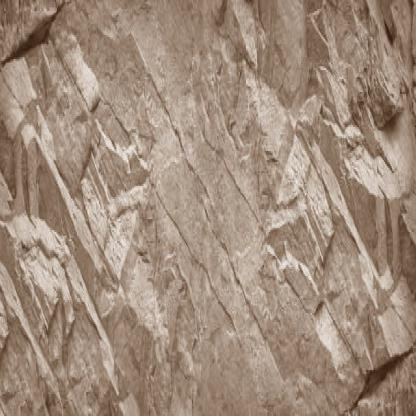Metamorphic_Marble: (1, 0, 415, 414)
